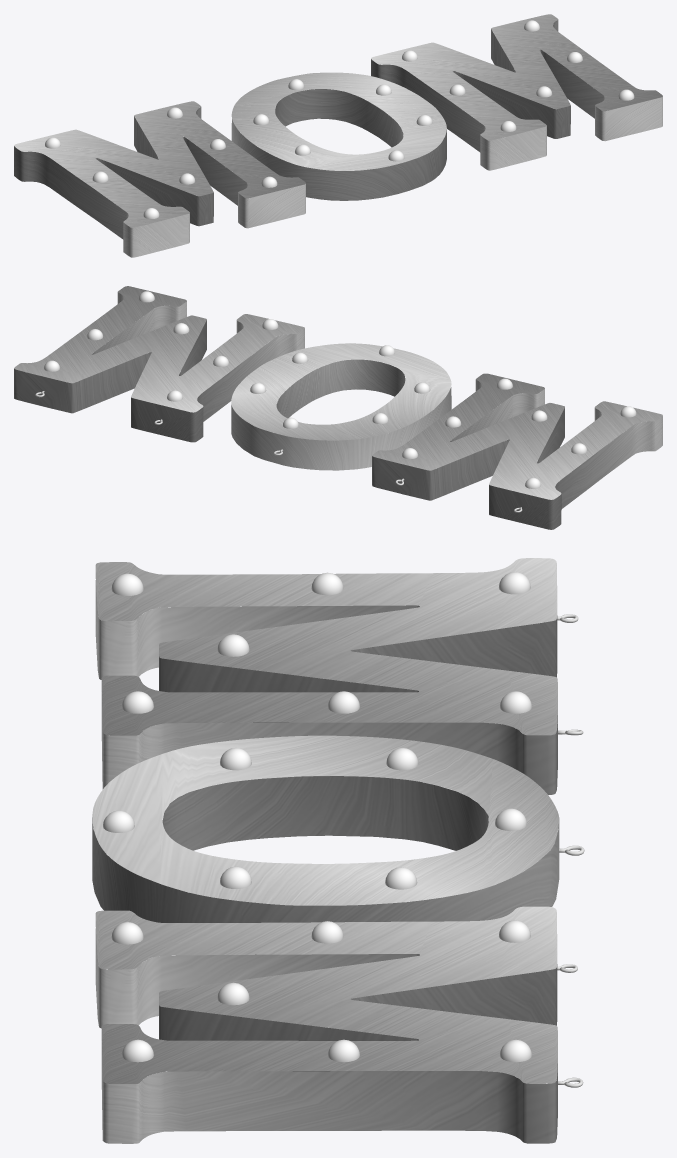
File: mothers-day-2.glb
The picture shows the model from 3 angles, top to bottom: view 1: azimuth 30°, elevation 25°; view 2: azimuth 150°, elevation 25°; view 3: azimuth 270°, elevation 25°; orthographic projection. The views are drawn at different scales.
Visible parts, largest first — view 1: M1, M2, O1; view 2: M1, M2, O1; view 3: M2, M1, O1.
Part boxes in pixels (left/top/right/bottom): M1: left=14, top=101, right=305, bottom=257; M2: left=371, top=14, right=662, bottom=170; O1: left=231, top=72, right=446, bottom=200; M1: left=372, top=373, right=662, bottom=529; M2: left=14, top=286, right=304, bottom=442; O1: left=231, top=343, right=451, bottom=470; M2: left=95, top=906, right=557, bottom=1143; M1: left=95, top=558, right=557, bottom=794; O1: left=92, top=735, right=559, bottom=954.
Bounding box in the file's own units: 9.43 × 0.6195 × 3.73.
2 materials, 1 textured.
